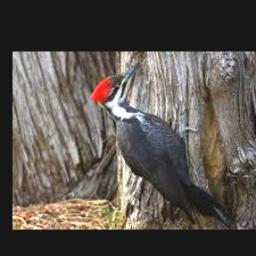Woodpecker: (89, 60, 231, 227)
